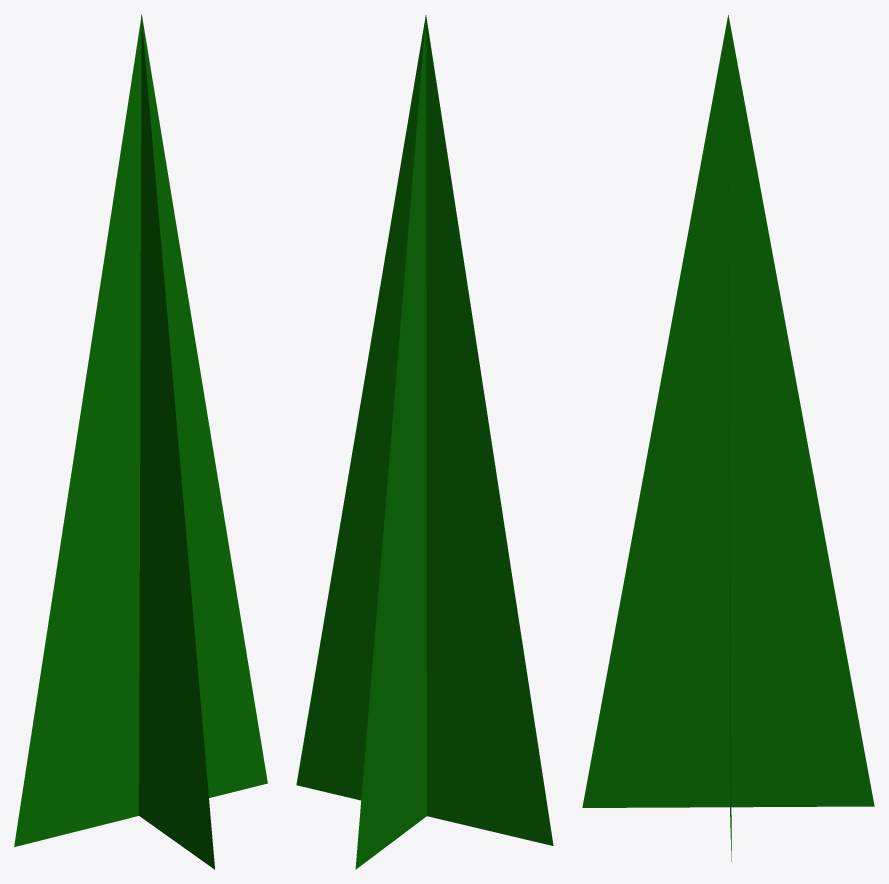
The picture shows the model from 3 angles, left to right: view 1: azimuth 30°, elevation 25°; view 2: azimuth 150°, elevation 25°; view 3: azimuth 270°, elevation 25°; orthographic projection.
Parts seen in each view (by area): view 1: 立方体.003; view 2: 立方体.003; view 3: 立方体.003.
Boxes of the visible parts, x1=… form: 立方体.003: x1=14, y1=14, x2=267, y2=869; 立方体.003: x1=296, y1=15, x2=553, y2=869; 立方体.003: x1=582, y1=15, x2=874, y2=861.
Size of the model in its own units: 0.2004 by 0.6008 by 0.2004.
